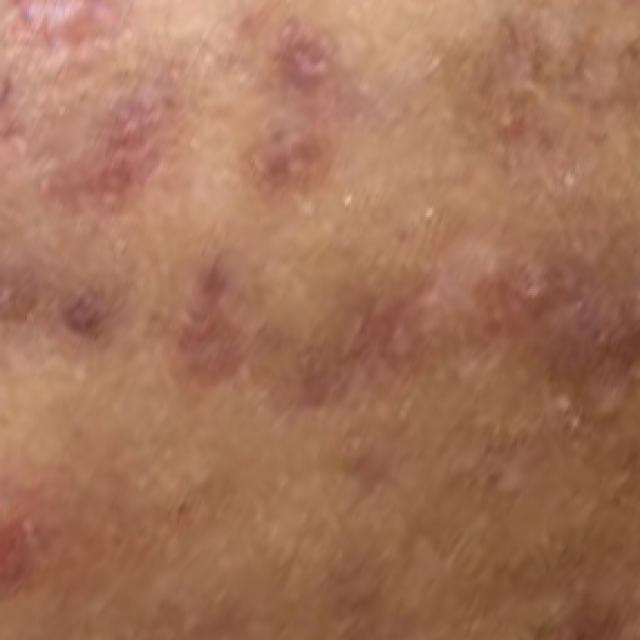acne: (157, 240, 400, 398), (452, 548, 640, 640), (11, 0, 130, 80), (246, 15, 356, 99), (45, 260, 125, 368), (226, 116, 338, 188), (0, 472, 60, 599)
